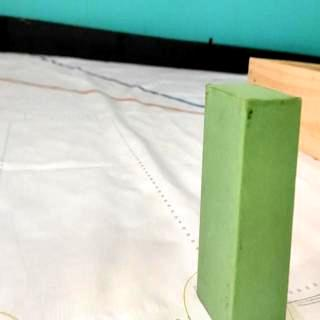greenbox: (197, 81, 304, 320)
